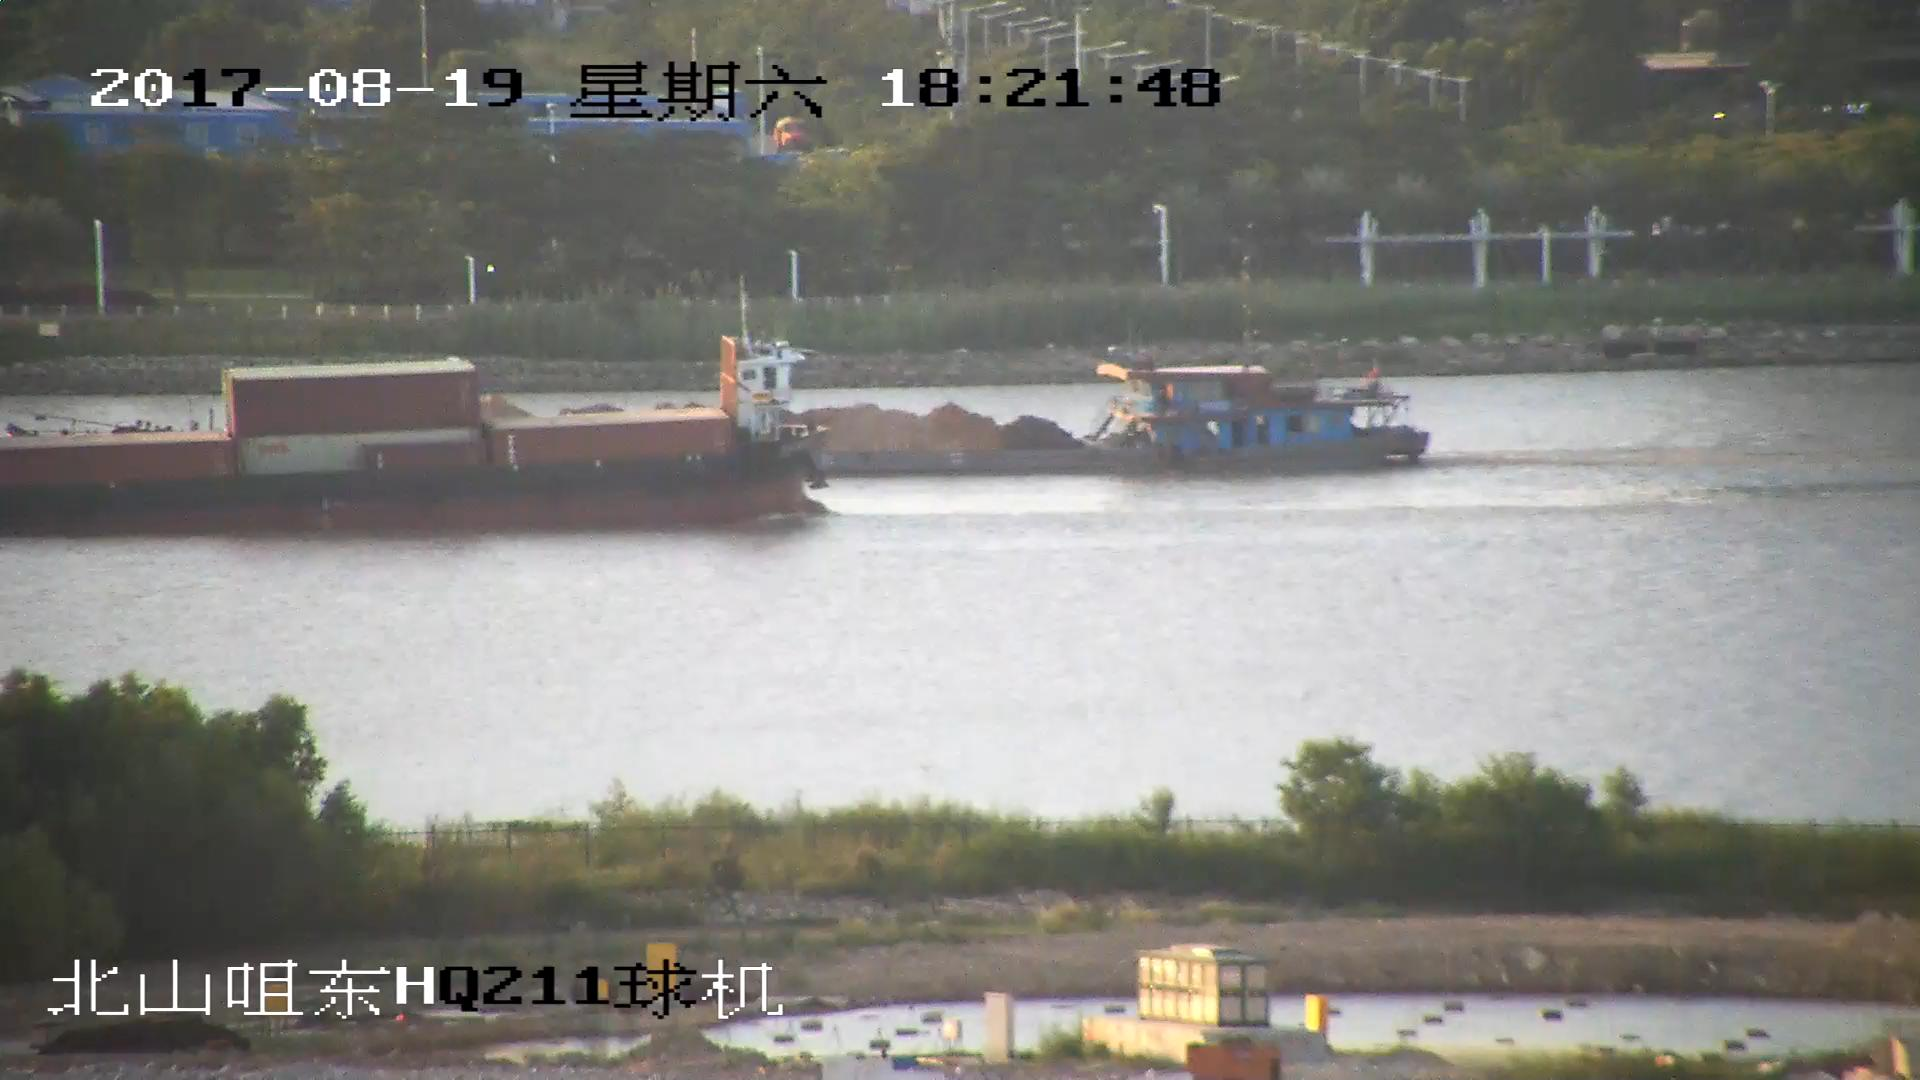container ship: (1, 337, 837, 529)
ore carrier: (818, 354, 1435, 475)
